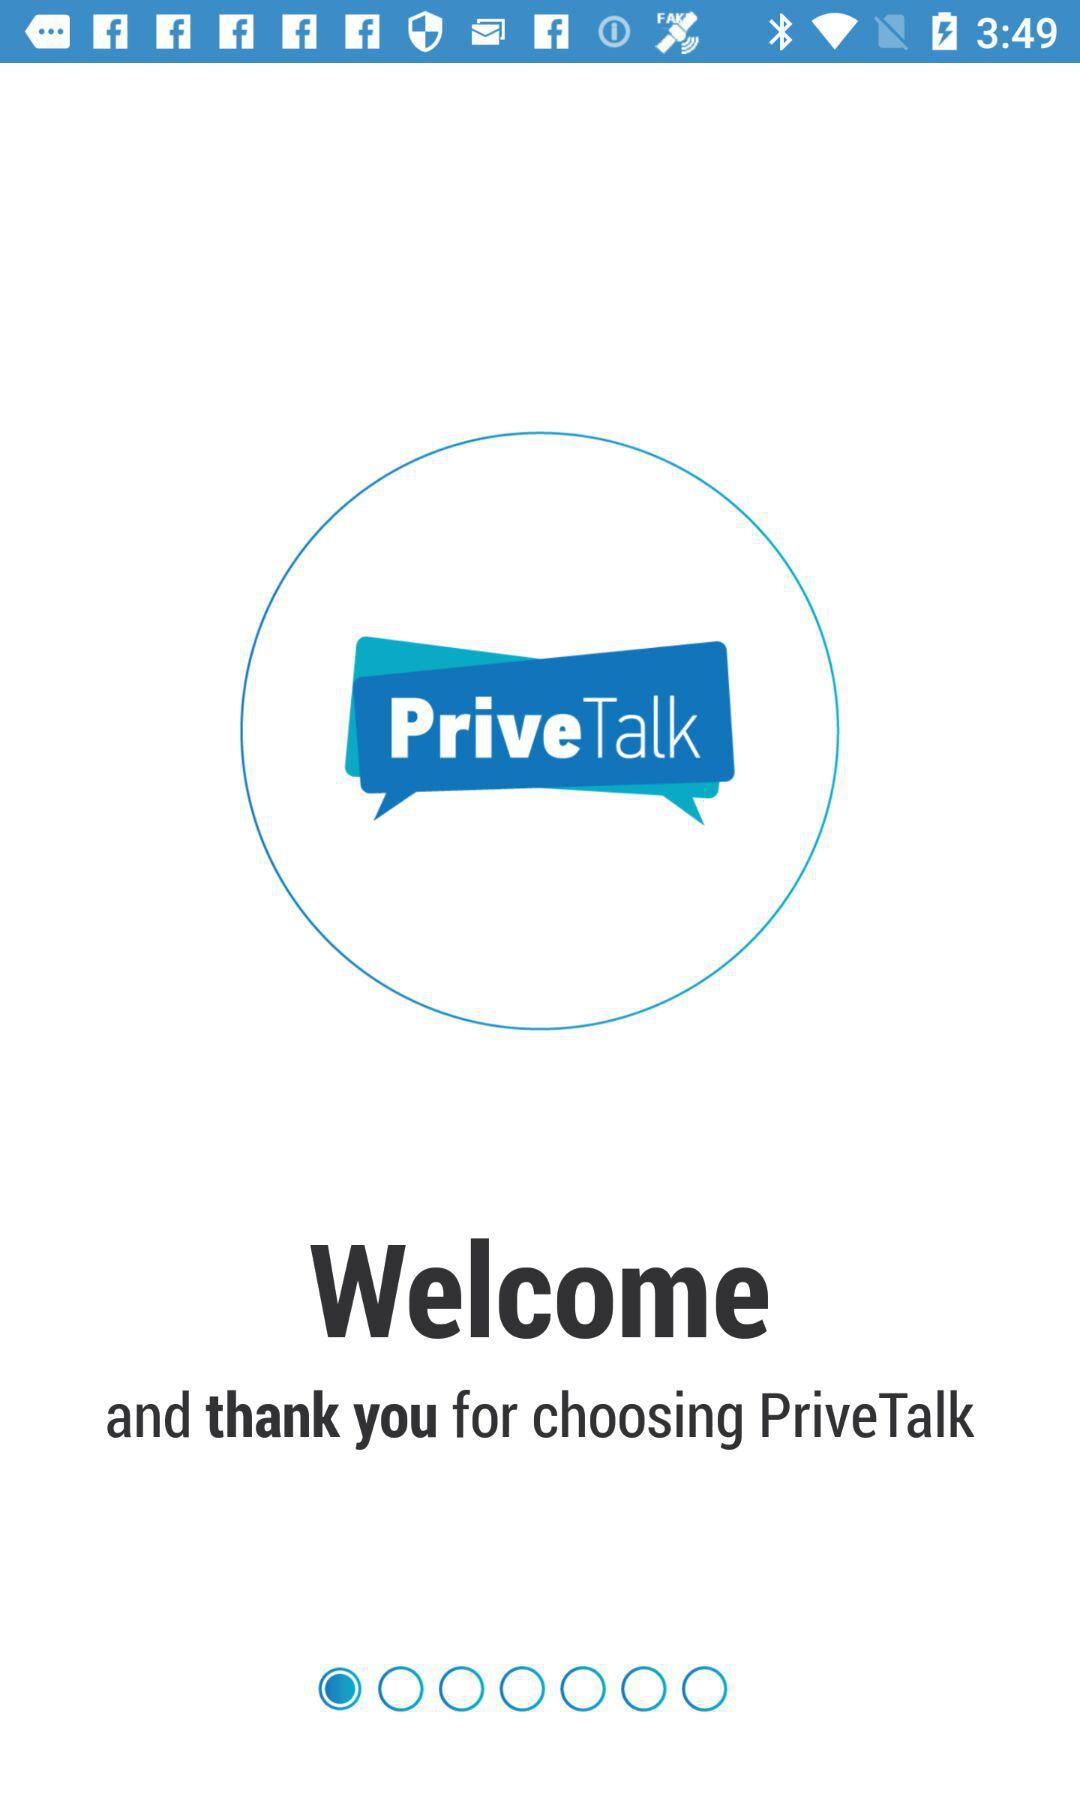Image: (238, 431, 843, 1033)
PageIndicator: (316, 1665, 732, 1715)
Text: (106, 1387, 975, 1453), (311, 1235, 773, 1342)
UpperTaskBar: (1, 1, 1080, 64)
